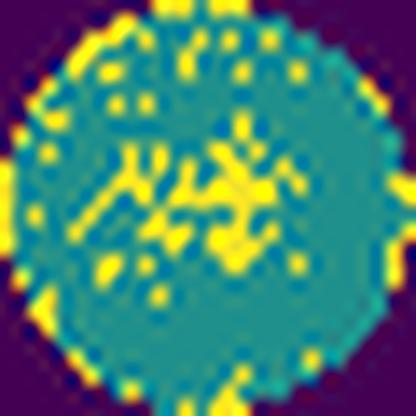Center: (75, 127, 303, 289)
